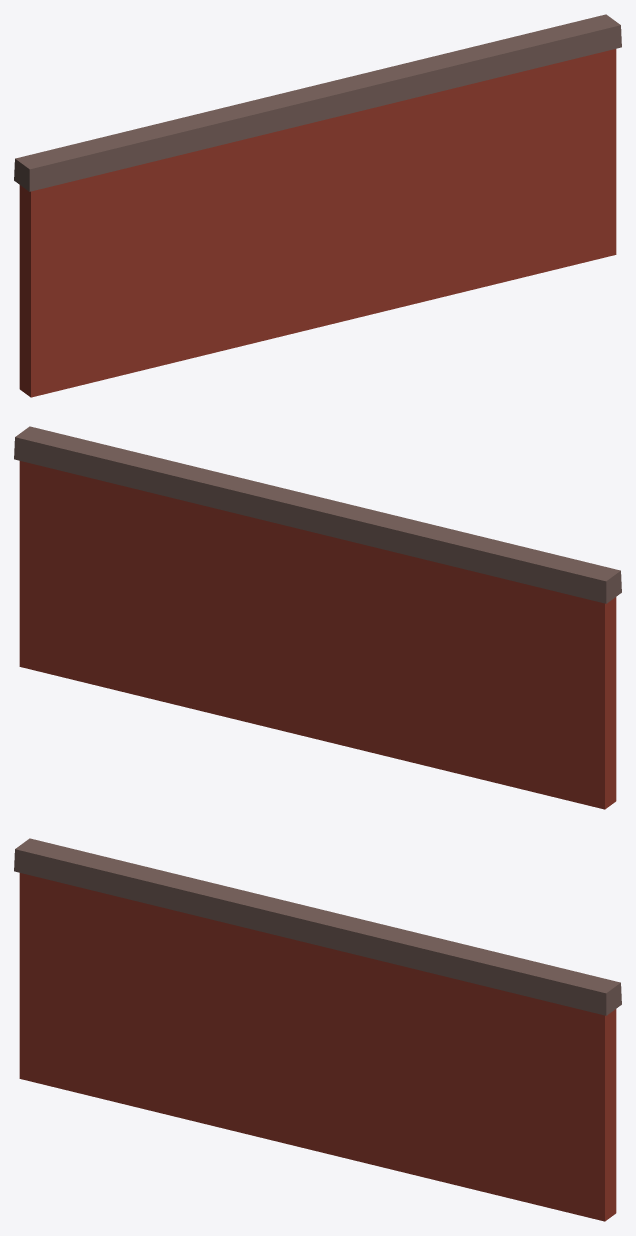
File: BrickWall.fbx
The picture shows the model from 3 angles, top to bottom: view 1: azimuth 30°, elevation 25°; view 2: azimuth 150°, elevation 25°; view 3: azimuth 330°, elevation 25°; orthographic projection.
Visible parts, largest first — view 1: BrickWall; view 2: BrickWall; view 3: BrickWall.
Boxes of the visible parts, bbox=[...] form: BrickWall: bbox=[14, 14, 621, 397]; BrickWall: bbox=[14, 426, 621, 809]; BrickWall: bbox=[14, 838, 621, 1221].
Size of the model in its own units: 2471 by 917 by 112.
